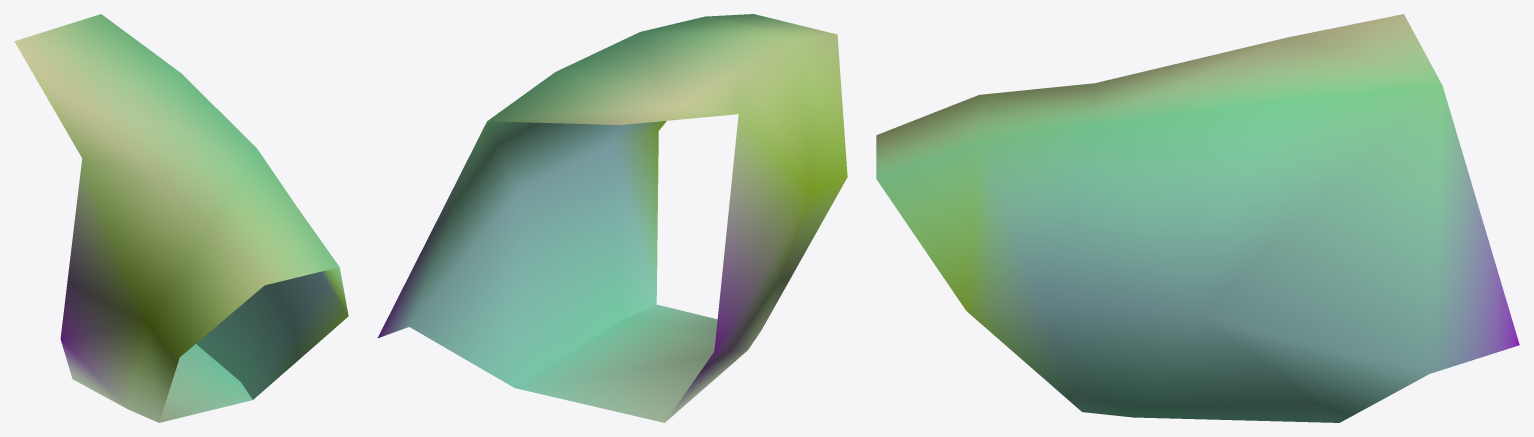
The picture shows the model from 3 angles, left to right: view 1: azimuth 30°, elevation 25°; view 2: azimuth 150°, elevation 25°; view 3: azimuth 270°, elevation 25°; orthographic projection. The views are drawn at different scales.
Visible parts, largest first — view 1: part; view 2: part; view 3: part.
Boxes of the visible parts, bbox=[...] form: part: bbox=[14, 14, 348, 422]; part: bbox=[378, 14, 847, 422]; part: bbox=[876, 14, 1519, 422].
Size of the model in its own units: 21 by 31 by 50.
